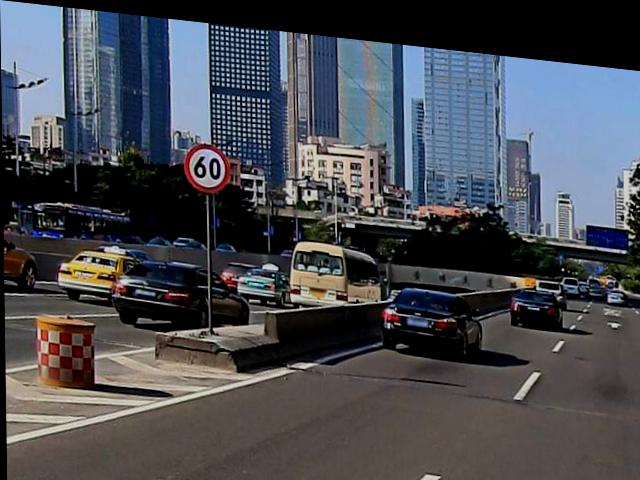limit60: (183, 136, 233, 194)
